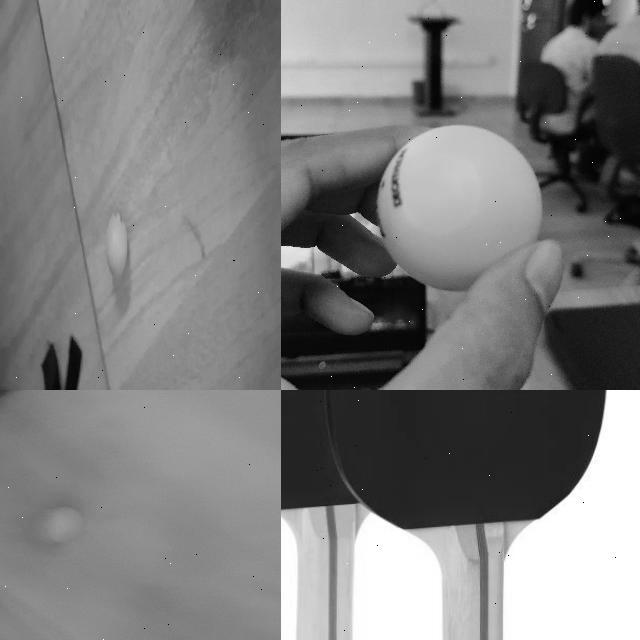ping-pong-ball: (374, 125, 542, 292), (106, 212, 128, 282), (41, 506, 79, 540)
